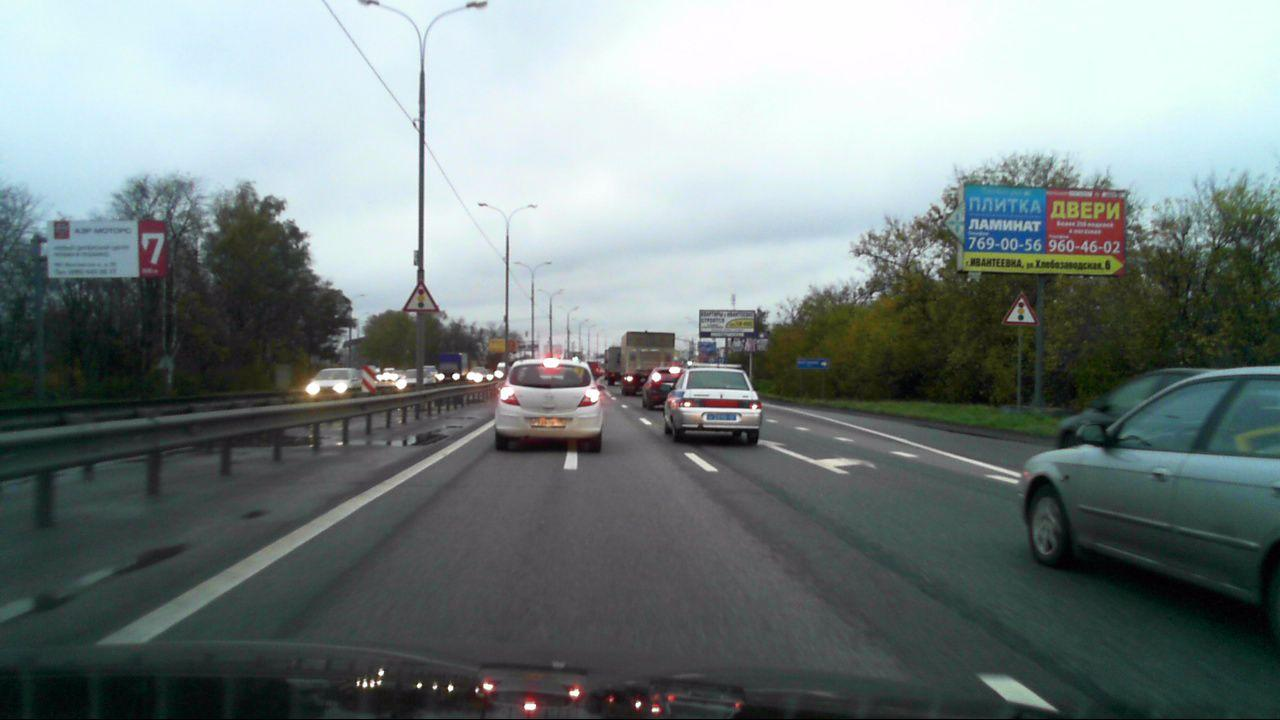1_8: (1002, 289, 1038, 326), (403, 280, 439, 315)
